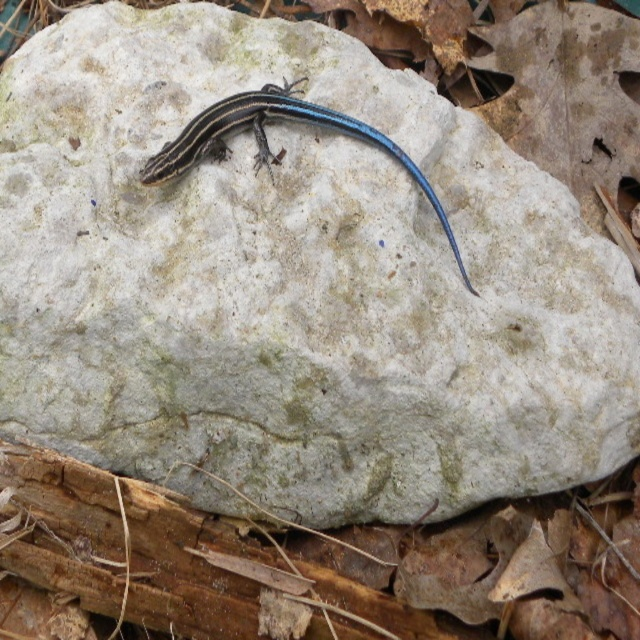Lizard: (140, 68, 481, 269)
